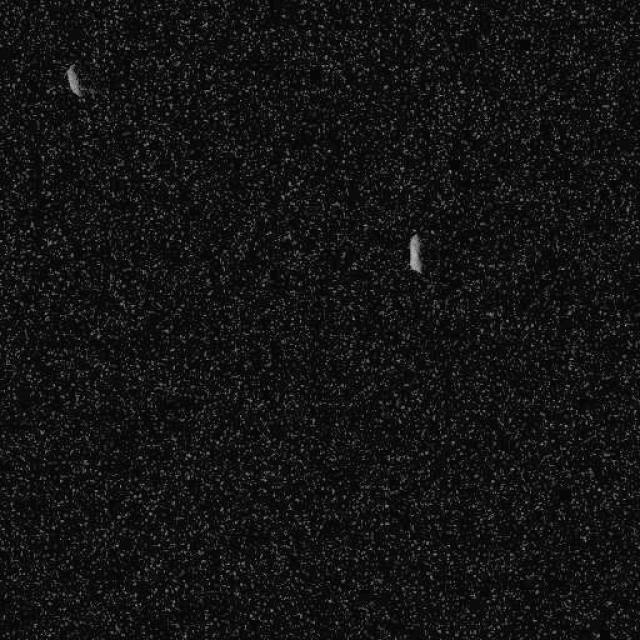D2: (406, 231, 424, 274), (64, 62, 85, 98)
